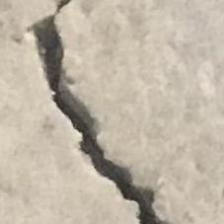Crack: (20, 0, 176, 220)
